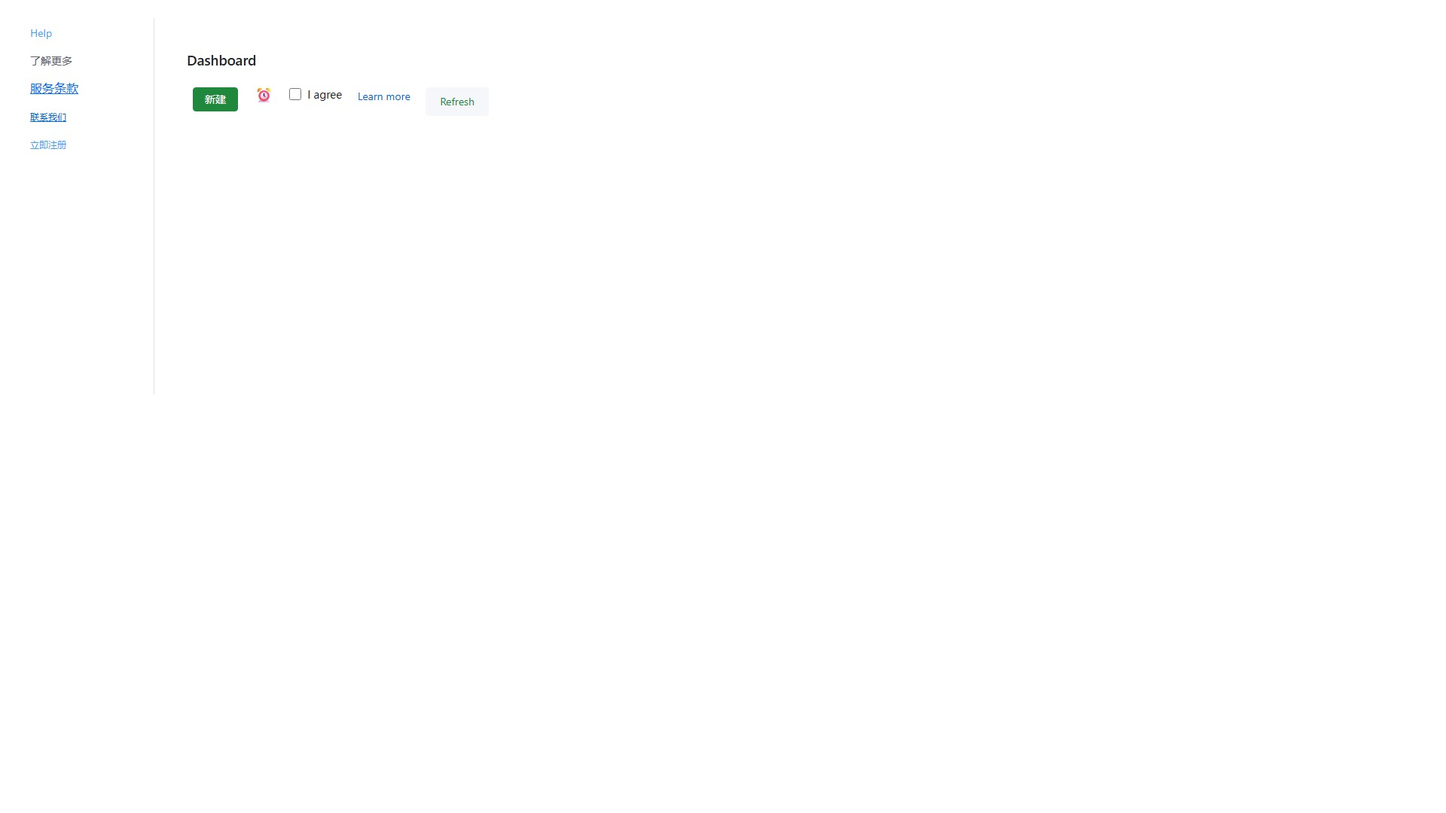button: (426, 87, 489, 116), (193, 87, 238, 111)
checkbox: (289, 88, 301, 100)
icon: (307, 87, 342, 101), (253, 87, 274, 102)
link: (30, 80, 78, 96), (357, 89, 410, 103), (30, 53, 72, 68), (30, 111, 66, 123), (30, 139, 66, 151), (30, 26, 52, 40)
radio: (289, 87, 342, 101)
